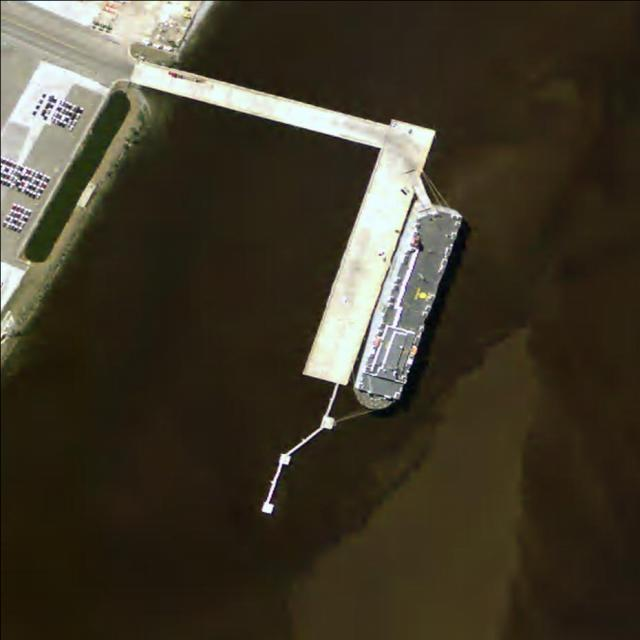Dock: (301, 114, 434, 390)
RoRo: (343, 194, 463, 423)
